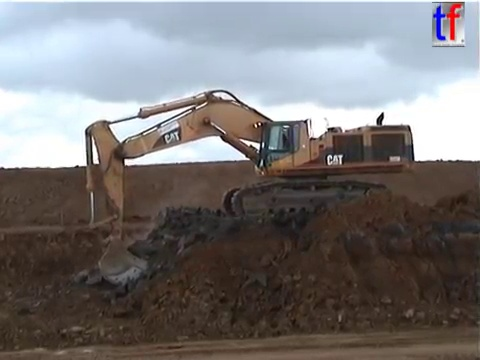excavator: (81, 86, 417, 288)
